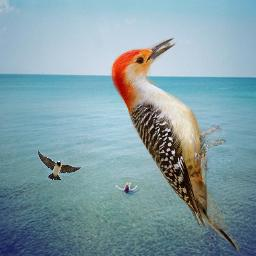Swallow: (37, 150, 81, 180)
Woodpecker: (110, 37, 241, 256)
